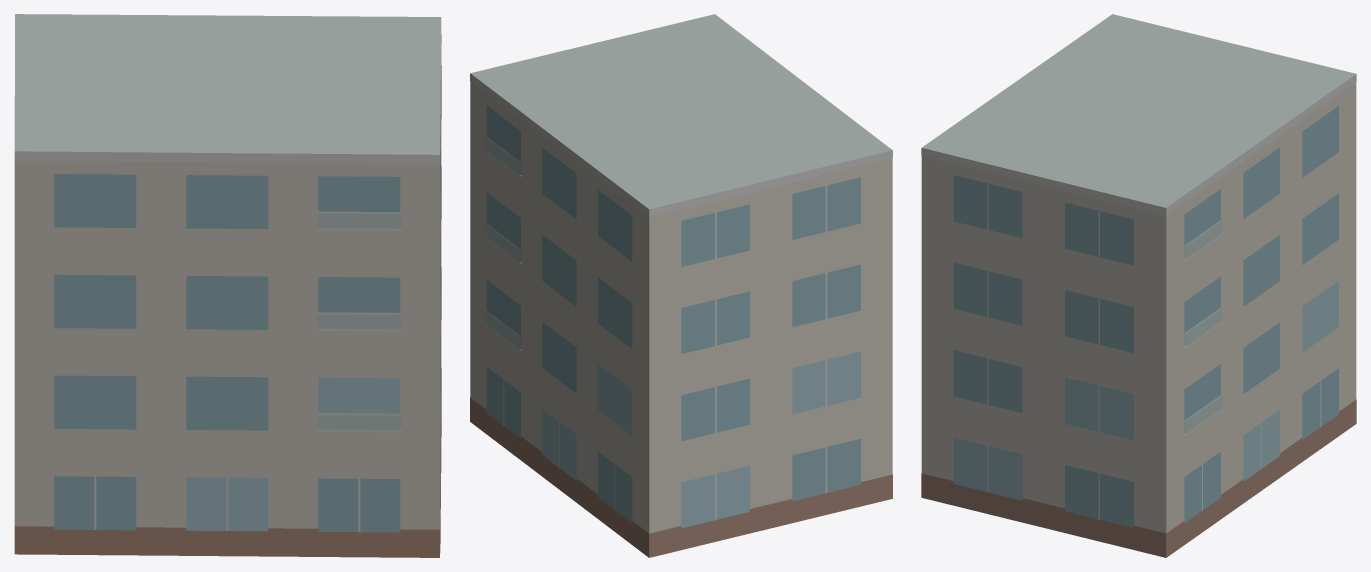
File: survey-upis-32945574.glb
The picture shows the model from 3 angles, left to right: view 1: azimuth 30°, elevation 25°; view 2: azimuth 150°, elevation 25°; view 3: azimuth 270°, elevation 25°; orthographic projection. The views are drawn at different scales.
Visible parts, largest first — view 1: survey-upis-32945574.tmp; view 2: survey-upis-32945574.tmp; view 3: survey-upis-32945574.tmp.
Boxes of the visible parts, x1,y1,x2,y2 form: survey-upis-32945574.tmp: (14, 14, 441, 557); survey-upis-32945574.tmp: (470, 14, 892, 557); survey-upis-32945574.tmp: (921, 14, 1356, 557).
Bounding box in the file's own units: 12.61 × 10.6 × 11.95.
